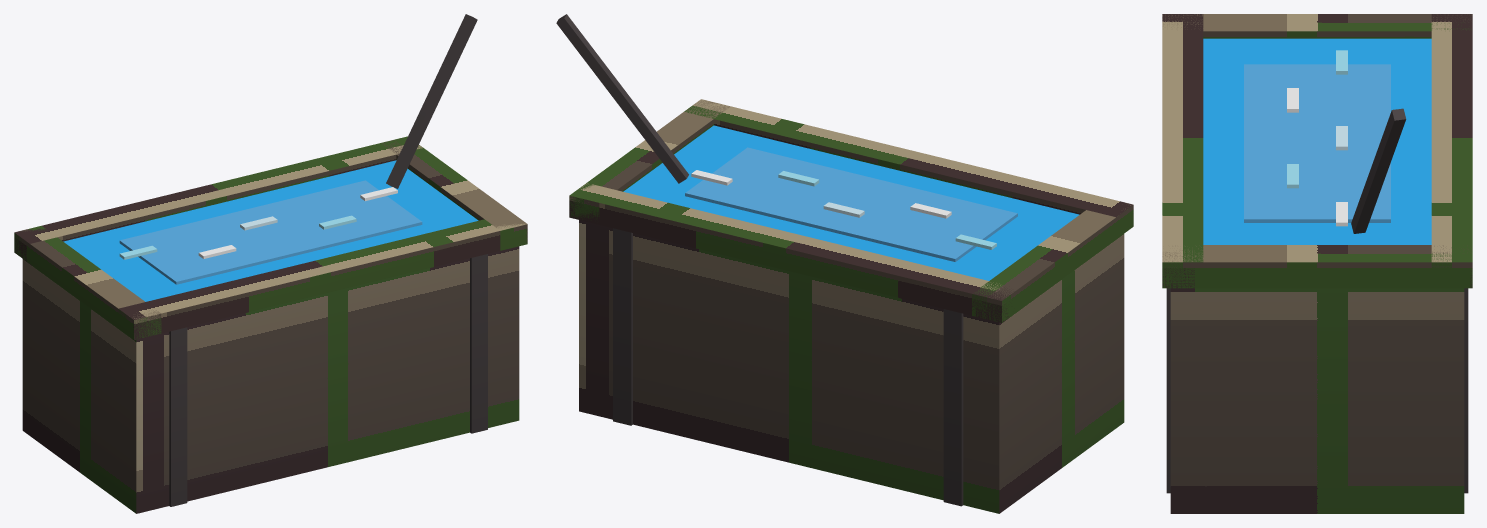
The model's file is quench_tank.glb.
3 views of the same model, side by side, from view 1: azimuth 30°, elevation 25°; view 2: azimuth 150°, elevation 25°; view 3: azimuth 270°, elevation 25° (orthographic). The views are drawn at different scales.
Parts seen in each view (by area): view 1: quench_tank; view 2: quench_tank; view 3: quench_tank.
Boxes of the visible parts, box(x1,y1,x2,y2) form: quench_tank: box(14, 14, 527, 513); quench_tank: box(556, 14, 1133, 513); quench_tank: box(1162, 14, 1472, 513).
Bounding box in the file's own units: 1.59 × 1.16 × 0.76.
Materials: 3 (1 with a texture image).
